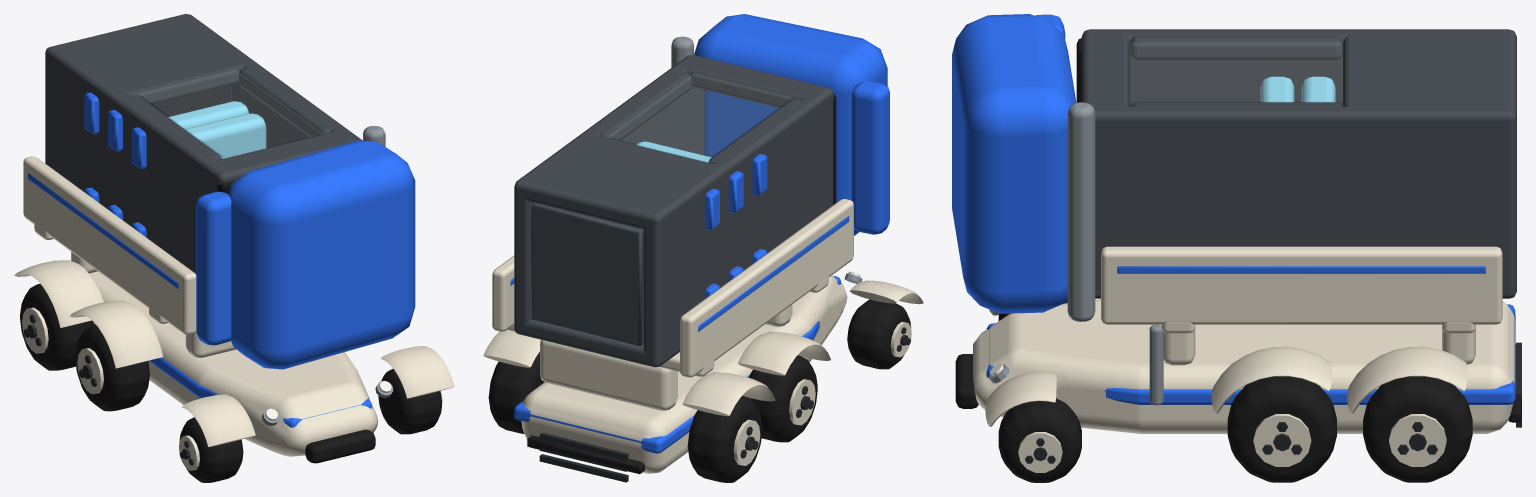
Rendered from outpost_truck.glb.
3 views of the same model, side by side, from view 1: azimuth 30°, elevation 25°; view 2: azimuth 150°, elevation 25°; view 3: azimuth 270°, elevation 25° (orthographic). The views are drawn at different scales.
Parts seen in each view (by area): view 1: ot_head__M_Team, ot_stem_body__M_SmokePlastic, hull__M_CreamPlastic, ot_stem_body__M_ClearGlass, wing_r1__M_CreamPlastic, wheel_r1__M_Licorice, wing_r2__M_CreamPlastic, wheel_r2__M_Licorice, steer_l0__M_CreamPlastic, steer_r0__M_CreamPlastic, wheel_l0__M_Licorice, ot_silo_1__M_Ore_Crystal (+8 smaller); view 2: ot_stem_body__M_SmokePlastic, hull__M_CreamPlastic, ot_head__M_Team, ot_stem_body__M_ClearGlass, wheel_r2__M_Licorice, wheel_r0__M_Licorice, wheel_r1__M_Licorice, hull__M_Team, wing_r2__M_CreamPlastic, wing_r1__M_CreamPlastic, wheel_l2__M_Licorice, ot_stem_body__M_Team (+8 smaller); view 3: ot_stem_body__M_SmokePlastic, hull__M_CreamPlastic, ot_head__M_Team, ot_stem_body__M_ClearGlass, wheel_l1__M_Licorice, wheel_l2__M_Licorice, ot_head__M_SpringSteel, hull__M_Team, wheel_l0__M_Licorice, wing_l2__M_CreamPlastic, wing_l1__M_CreamPlastic, steer_l0__M_CreamPlastic (+7 smaller).
Boxes of the visible parts, box(x1,y1,x2,y2) form: ot_head__M_Team: box(196, 140, 415, 369); ot_stem_body__M_SmokePlastic: box(45, 14, 362, 274); hull__M_CreamPlastic: box(23, 156, 378, 456); ot_stem_body__M_ClearGlass: box(139, 70, 321, 158); wing_r1__M_CreamPlastic: box(70, 300, 163, 368); wheel_r1__M_Licorice: box(75, 324, 149, 411); wing_r2__M_CreamPlastic: box(14, 260, 103, 327); wheel_r2__M_Licorice: box(20, 284, 93, 370); steer_l0__M_CreamPlastic: box(380, 346, 454, 398); steer_r0__M_CreamPlastic: box(182, 394, 255, 446); wheel_l0__M_Licorice: box(378, 369, 441, 434); ot_silo_1__M_Ore_Crystal: box(185, 113, 266, 158); ot_stem_body__M_SmokePlastic: box(514, 55, 833, 367); hull__M_CreamPlastic: box(492, 199, 853, 473); ot_head__M_Team: box(694, 14, 889, 235); ot_stem_body__M_ClearGlass: box(608, 74, 791, 161); wheel_r2__M_Licorice: box(687, 396, 762, 482); wheel_r0__M_Licorice: box(847, 299, 911, 369); wheel_r1__M_Licorice: box(747, 355, 817, 442); hull__M_Team: box(510, 216, 849, 453); wing_r2__M_CreamPlastic: box(682, 372, 775, 416); wing_r1__M_CreamPlastic: box(737, 331, 830, 375); wheel_l2__M_Licorice: box(488, 351, 544, 433); ot_stem_body__M_Team: box(705, 154, 767, 298); ot_stem_body__M_SmokePlastic: box(1081, 29, 1516, 298); hull__M_CreamPlastic: box(973, 246, 1515, 433); ot_head__M_Team: box(952, 14, 1076, 313); ot_stem_body__M_ClearGlass: box(1130, 43, 1342, 105); wheel_l1__M_Licorice: box(1227, 376, 1336, 482); wheel_l2__M_Licorice: box(1363, 376, 1472, 482); ot_head__M_SpringSteel: box(1067, 102, 1095, 321); hull__M_Team: box(986, 266, 1515, 404); wheel_l0__M_Licorice: box(998, 398, 1081, 482); wing_l2__M_CreamPlastic: box(1347, 346, 1467, 413); wing_l1__M_CreamPlastic: box(1211, 346, 1332, 413); steer_l0__M_CreamPlastic: box(985, 371, 1056, 426).
Size of the model in its own units: 0.736 by 0.8327 by 1.18.
